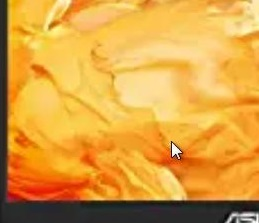cursor: (168, 138, 185, 163)
